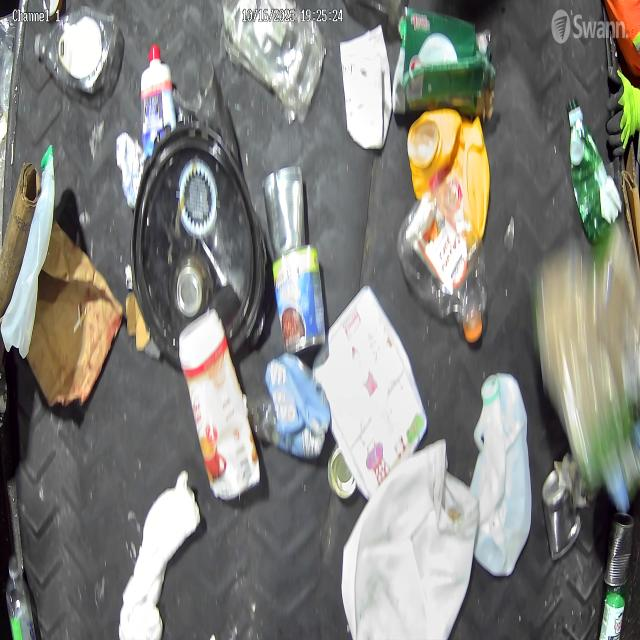can: (271, 242, 327, 358), (261, 162, 307, 262), (540, 467, 584, 564), (603, 509, 635, 589), (326, 443, 358, 502)
milk_jug: (340, 436, 481, 640), (469, 366, 534, 579), (0, 143, 56, 363)
non_white_jug: (406, 108, 492, 248)
plastic_bottle: (398, 197, 490, 346), (242, 391, 327, 461), (4, 550, 38, 640)
